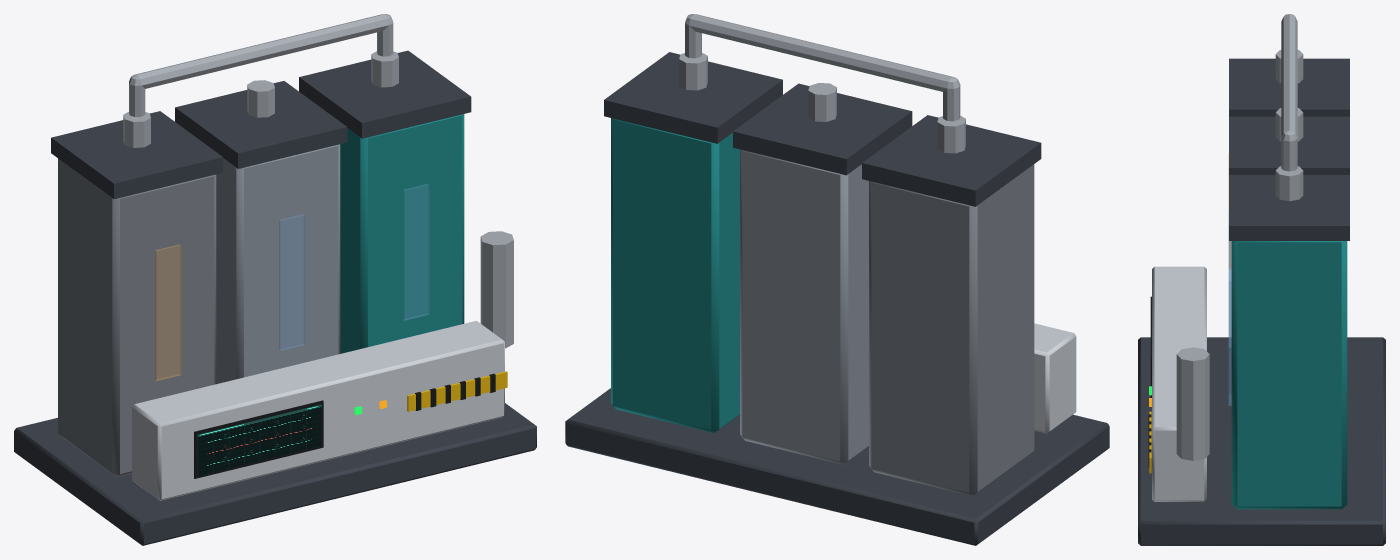
The model's file is watertank_greywater_processor.glb.
The picture shows the model from 3 angles, left to right: view 1: azimuth 30°, elevation 25°; view 2: azimuth 150°, elevation 25°; view 3: azimuth 270°, elevation 25°; orthographic projection. The views are drawn at different scales.
Parts seen in each view (by area): view 1: watertank_greywater_processor; view 2: watertank_greywater_processor; view 3: watertank_greywater_processor.
Boxes of the visible parts, <box> form: watertank_greywater_processor: <box>14,14,536,545</box>; watertank_greywater_processor: <box>565,14,1109,545</box>; watertank_greywater_processor: <box>1138,14,1385,545</box>.
Size of the model in its own units: 1.61 by 1.53 by 0.9.
13 materials, 1 textured.
